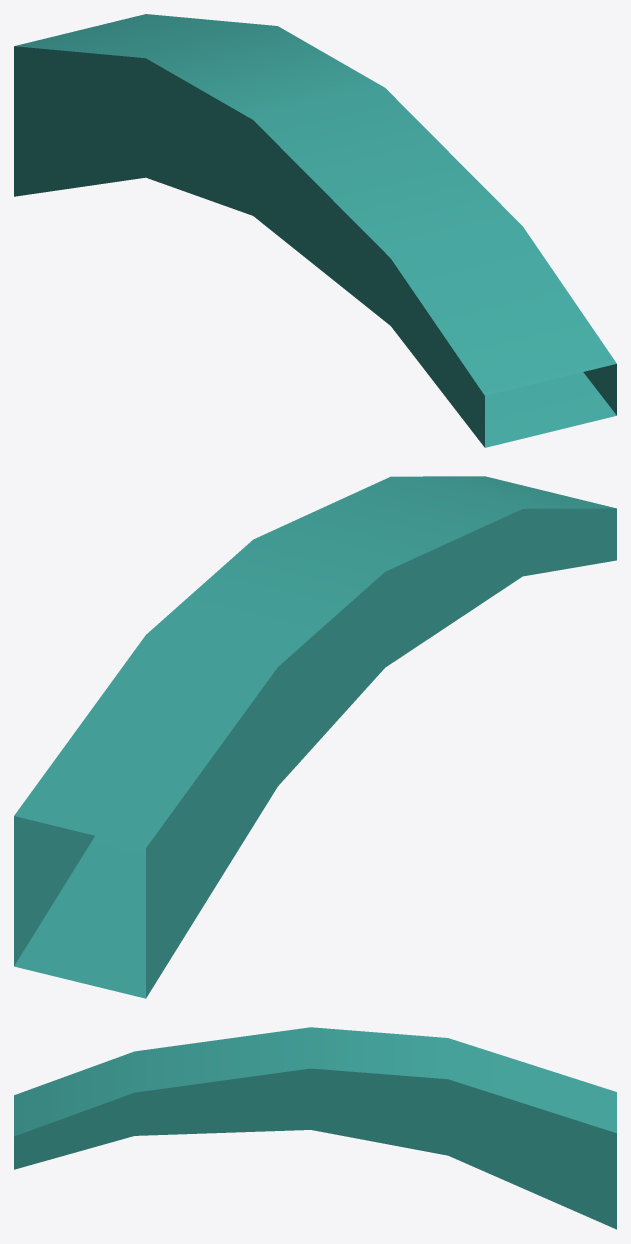
The model's file is SignHolderB_1.fbx.
3 renders of one model, top to bottom at view 1: azimuth 30°, elevation 25°; view 2: azimuth 150°, elevation 25°; view 3: azimuth 270°, elevation 25°, orthographic. The views are drawn at different scales.
Parts seen in each view (by area): view 1: SignHolderB_1; view 2: SignHolderB_1; view 3: SignHolderB_1.
Part boxes in pixels (x1=…): SignHolderB_1: x1=14, y1=14, x2=616, y2=447; SignHolderB_1: x1=14, y1=476, x2=616, y2=998; SignHolderB_1: x1=14, y1=1027, x2=616, y2=1229.
Size of the model in its own units: 5.82 by 10.62 by 35.99.
